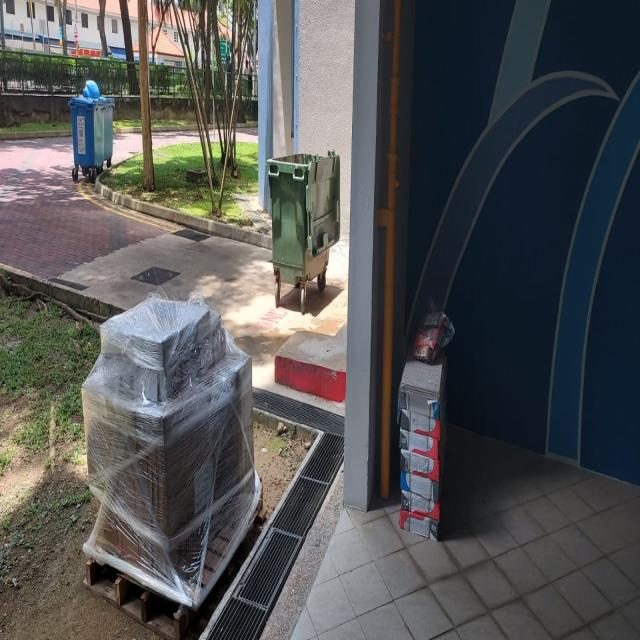bin_empty: (264, 141, 338, 307), (67, 88, 115, 174)
bulk_waste: (70, 300, 262, 589), (395, 306, 451, 522)
